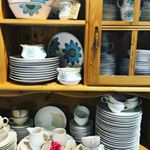cups: (100, 90, 130, 115), (72, 102, 91, 128), (9, 107, 31, 126), (79, 133, 102, 149)
